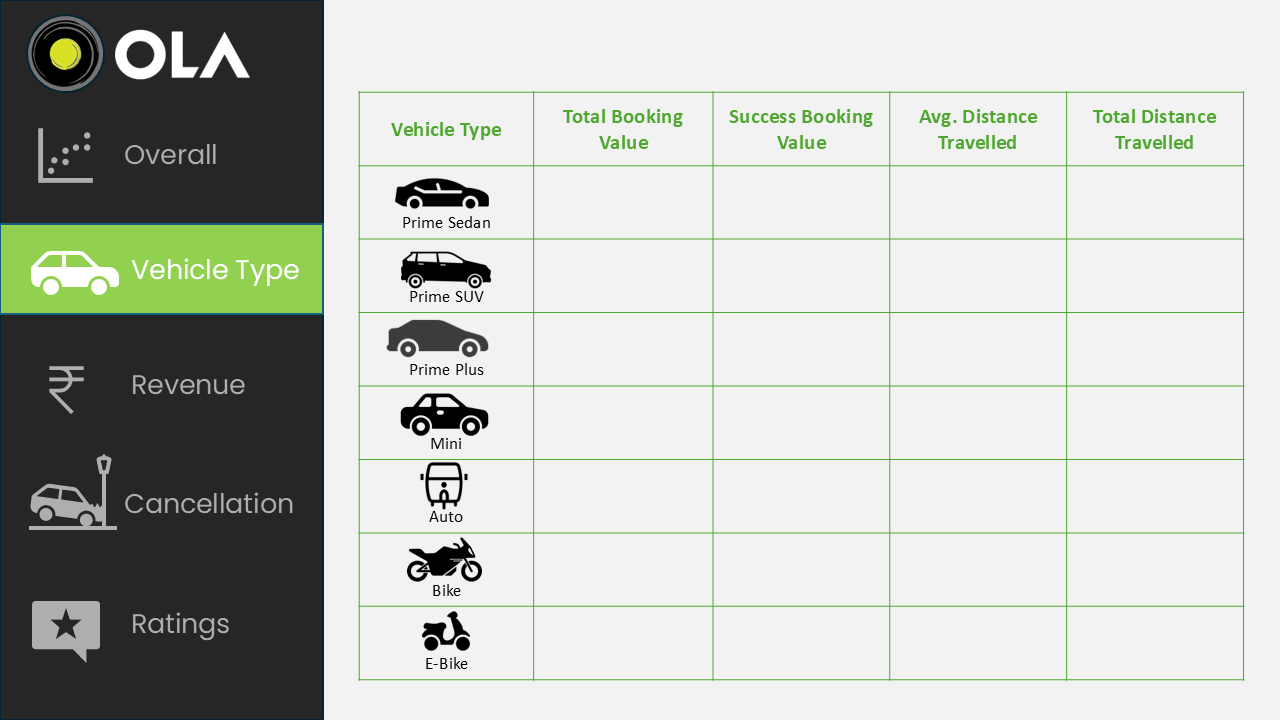

Layout of this report page (visuals, bound fields, positions):
{"tool":"powerbi","page":{"name":"Vehicle Type","canvas":[1280,720],"ordinal":1},"visuals":[{"type":"actionButton","box":[0,219.7,324.6,90.7],"z":0},{"type":"actionButton","box":[0,333.1,324.6,90.7],"z":1000},{"type":"actionButton","box":[0,447.9,324.6,90.7],"z":2000},{"type":"actionButton","box":[0,581.1,324.6,90.7],"z":3000},{"type":"actionButton","box":[0,110.6,324.6,90.7],"z":4000},{"type":"card","title":"Total Booking Value","fields":{"Values":["Sum(ola_bookings.Booking_Value)"]},"box":[542.3,170.8,163.7,57],"z":5000},{"type":"card","title":"Total Booking Value","fields":{"Values":["Sum(ola_bookings.Booking_Value)"]},"box":[720.1,172.5,163.7,56.3],"z":6000},{"type":"card","title":"Total Booking Value","fields":{"Values":["Avg(ola_bookings.Ride_Distance)"]},"box":[896.2,172.5,163.7,58.1],"z":7000},{"type":"card","title":"Total Booking Value","fields":{"Values":["Sum(ola_bookings.Ride_Distance)"]},"box":[1072.2,170.8,163.7,56.3],"z":8000},{"type":"card","title":"Total Booking Value","fields":{"Values":["Sum(ola_bookings.Booking_Value)"]},"box":[541.7,240.6,163.7,57],"z":9000},{"type":"card","title":"Total Booking Value","fields":{"Values":["Sum(ola_bookings.Booking_Value)"]},"box":[719.5,242.4,163.7,56.3],"z":10000},{"type":"card","title":"Total Booking Value","fields":{"Values":["Avg(ola_bookings.Ride_Distance)"]},"box":[895.6,242.4,163.7,58.1],"z":11000},{"type":"card","title":"Total Booking Value","fields":{"Values":["Sum(ola_bookings.Ride_Distance)"]},"box":[1071.7,240.6,163.7,56.3],"z":12000},{"type":"card","title":"Total Booking Value","fields":{"Values":["Sum(ola_bookings.Booking_Value)"]},"box":[544,313.4,163.7,61.6],"z":13000},{"type":"card","title":"Total Booking Value","fields":{"Values":["Sum(ola_bookings.Booking_Value)"]},"box":[722.5,315.8,163.7,56.3],"z":14000},{"type":"card","title":"Total Booking Value","fields":{"Values":["Avg(ola_bookings.Ride_Distance)"]},"box":[898.6,315.8,163.7,58.1],"z":15000},{"type":"card","title":"Total Booking Value","fields":{"Values":["Sum(ola_bookings.Ride_Distance)"]},"box":[1074.6,314,163.7,56.3],"z":16000},{"type":"card","title":"Total Booking Value","fields":{"Values":["Sum(ola_bookings.Booking_Value)"]},"box":[545.2,392.1,163.7,61.6],"z":17000},{"type":"card","title":"Total Booking Value","fields":{"Values":["Sum(ola_bookings.Booking_Value)"]},"box":[723.7,394.5,163.7,56.3],"z":18000},{"type":"card","title":"Total Booking Value","fields":{"Values":["Avg(ola_bookings.Ride_Distance)"]},"box":[899.8,394.5,163.7,58.1],"z":19000},{"type":"card","title":"Total Booking Value","fields":{"Values":["Sum(ola_bookings.Ride_Distance)"]},"box":[1075.8,392.7,163.7,56.3],"z":20000},{"type":"card","title":"Total Booking Value","fields":{"Values":["Sum(ola_bookings.Booking_Value)"]},"box":[544.7,463.7,163.7,61.6],"z":21000},{"type":"card","title":"Total Booking Value","fields":{"Values":["Sum(ola_bookings.Booking_Value)"]},"box":[723.1,466.1,163.7,56.3],"z":22000},{"type":"card","title":"Total Booking Value","fields":{"Values":["Avg(ola_bookings.Ride_Distance)"]},"box":[899.2,466.1,163.7,58.1],"z":23000},{"type":"card","title":"Total Booking Value","fields":{"Values":["Sum(ola_bookings.Ride_Distance)"]},"box":[1075.3,464.3,163.7,56.3],"z":24000},{"type":"card","title":"Total Booking Value","fields":{"Values":["Sum(ola_bookings.Booking_Value)"]},"box":[544.1,533.5,163.7,61.6],"z":25000},{"type":"card","title":"Total Booking Value","fields":{"Values":["Sum(ola_bookings.Booking_Value)"]},"box":[722.6,535.9,163.7,56.3],"z":26000},{"type":"card","title":"Total Booking Value","fields":{"Values":["Avg(ola_bookings.Ride_Distance)"]},"box":[898.6,535.9,163.7,58.1],"z":27000},{"type":"card","title":"Total Booking Value","fields":{"Values":["Sum(ola_bookings.Ride_Distance)"]},"box":[1074.7,534.2,163.7,56.3],"z":28000},{"type":"card","title":"Total Booking Value","fields":{"Values":["Sum(ola_bookings.Booking_Value)"]},"box":[541.8,605.2,163.7,61.6],"z":29000},{"type":"card","title":"Total Booking Value","fields":{"Values":["Sum(ola_bookings.Booking_Value)"]},"box":[720.2,607.6,163.7,56.3],"z":30000},{"type":"card","title":"Total Booking Value","fields":{"Values":["Avg(ola_bookings.Ride_Distance)"]},"box":[896.3,607.6,163.7,58.1],"z":31000},{"type":"card","title":"Total Booking Value","fields":{"Values":["Sum(ola_bookings.Ride_Distance)"]},"box":[1072.4,605.8,163.7,56.3],"z":32000},{"type":"slicer","fields":{"Values":["ola_bookings.Date_of_Booking"]},"box":[964.8,0,315.2,81],"z":33000}]}

Visuals, with their boxes on the page's 1280x720 design canvas (x1, y1, x2, y2). These are canvas units, not pixel positions in the 1280x720 screenshot, which may show the page scaled, cropped or inside an application window:
actionButton: region(0, 220, 325, 310)
actionButton: region(0, 333, 325, 424)
actionButton: region(0, 448, 325, 539)
actionButton: region(0, 581, 325, 672)
actionButton: region(0, 111, 325, 201)
"Total Booking Value" card: region(542, 171, 706, 228)
"Total Booking Value" card: region(720, 172, 884, 229)
"Total Booking Value" card: region(896, 172, 1060, 231)
"Total Booking Value" card: region(1072, 171, 1236, 227)
"Total Booking Value" card: region(542, 241, 705, 298)
"Total Booking Value" card: region(720, 242, 883, 299)
"Total Booking Value" card: region(896, 242, 1059, 300)
"Total Booking Value" card: region(1072, 241, 1235, 297)
"Total Booking Value" card: region(544, 313, 708, 375)
"Total Booking Value" card: region(722, 316, 886, 372)
"Total Booking Value" card: region(899, 316, 1062, 374)
"Total Booking Value" card: region(1075, 314, 1238, 370)
"Total Booking Value" card: region(545, 392, 709, 454)
"Total Booking Value" card: region(724, 394, 887, 451)
"Total Booking Value" card: region(900, 394, 1064, 453)
"Total Booking Value" card: region(1076, 393, 1240, 449)
"Total Booking Value" card: region(545, 464, 708, 525)
"Total Booking Value" card: region(723, 466, 887, 522)
"Total Booking Value" card: region(899, 466, 1063, 524)
"Total Booking Value" card: region(1075, 464, 1239, 521)
"Total Booking Value" card: region(544, 534, 708, 595)
"Total Booking Value" card: region(723, 536, 886, 592)
"Total Booking Value" card: region(899, 536, 1062, 594)
"Total Booking Value" card: region(1075, 534, 1238, 590)
"Total Booking Value" card: region(542, 605, 706, 667)
"Total Booking Value" card: region(720, 608, 884, 664)
"Total Booking Value" card: region(896, 608, 1060, 666)
"Total Booking Value" card: region(1072, 606, 1236, 662)
slicer - ola_bookings.Date_of_Booking: region(965, 0, 1280, 81)
